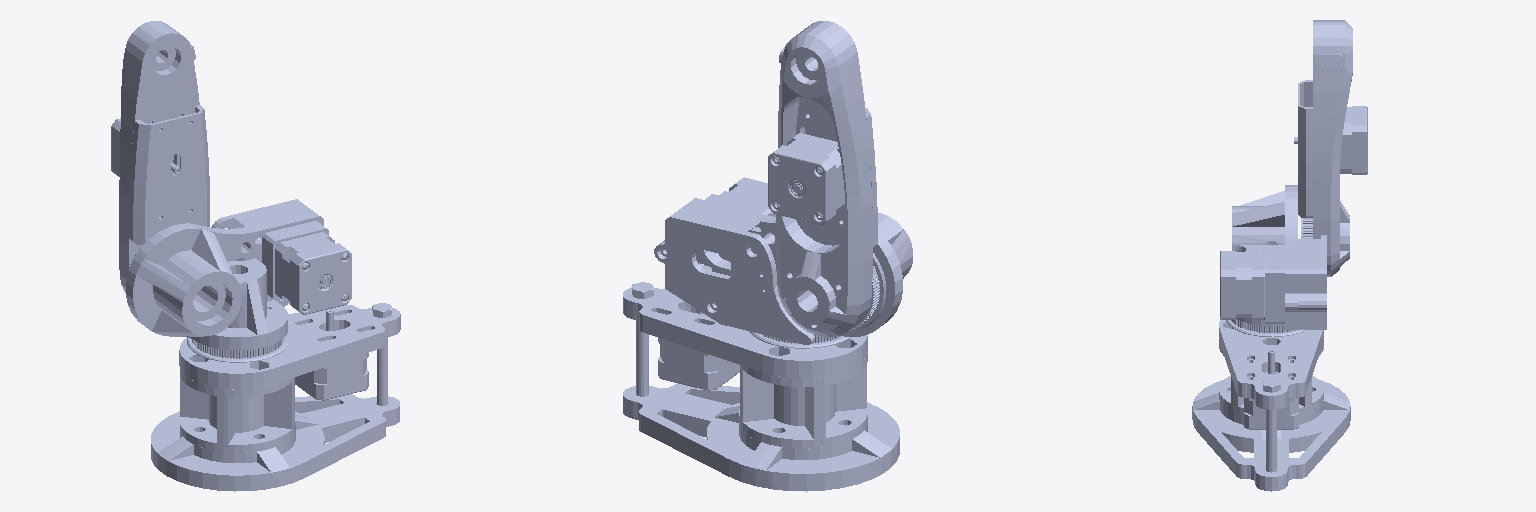
URDF robot description (robot_arm):
<?xml version="1.0" encoding="utf-8"?>
<!-- This URDF was automatically created by SolidWorks to URDF Exporter! Originally created by [author] ([email redacted]) 
     Commit Version: 1.6.0-4-g7f85cfe  Build Version: 1.6.7995.38578
     For more information, please see http://wiki.ros.org/sw_urdf_exporter -->
<robot
  name="robot_arm">
  <link
    name="base_link">
    <inertial>
      <origin
        xyz="0.0255730958520303 0.013884602527498 -3.57728338697066E-08"
        rpy="0 0 0" />
      <mass
        value="0.436656281721509" />
      <inertia
        ixx="0.000275493469666201"
        ixy="4.20948592024223E-06"
        ixz="2.42104668670834E-10"
        iyy="0.000797952591500023"
        iyz="-3.55525800160377E-11"
        izz="0.000596315822730298" />
    </inertial>
    <visual>
      <origin
        xyz="0 0 0"
        rpy="0 0 0" />
      <geometry>
        <mesh
          filename="package://robot_arm/meshes/base_link.STL" />
      </geometry>
      <material
        name="">
        <color
          rgba="0.792156862745098 0.819607843137255 0.933333333333333 1" />
      </material>
    </visual>
    <collision>
      <origin
        xyz="0 0 0"
        rpy="0 0 0" />
      <geometry>
        <mesh
          filename="package://robot_arm/meshes/base_link.STL" />
      </geometry>
    </collision>
  </link>
  <link
    name="link1">
    <inertial>
      <origin
        xyz="0.00637793798209238 0.0488798575567449 -0.00229432415669968"
        rpy="0 0 0" />
      <mass
        value="0.356326079956351" />
      <inertia
        ixx="0.000175906216394001"
        ixy="2.23781390290641E-05"
        ixz="5.37299514044409E-05"
        iyy="0.000323052024269637"
        iyz="4.53381729517857E-06"
        izz="0.000370588074351588" />
    </inertial>
    <visual>
      <origin
        xyz="0 0 0"
        rpy="0 0 0" />
      <geometry>
        <mesh
          filename="package://robot_arm/meshes/link1.STL" />
      </geometry>
      <material
        name="">
        <color
          rgba="0.792156862745098 0.819607843137255 0.933333333333333 1" />
      </material>
    </visual>
    <collision>
      <origin
        xyz="0 0 0"
        rpy="0 0 0" />
      <geometry>
        <mesh
          filename="package://robot_arm/meshes/link1.STL" />
      </geometry>
    </collision>
  </link>
  <joint
    name="J1"
    type="continuous">
    <origin
      xyz="0 0 0.054376"
      rpy="1.5708 0 -0.17957" />
    <parent
      link="base_link" />
    <child
      link="link1" />
    <axis
      xyz="0 1 0" />
  </joint>
  <link
    name="link2">
    <inertial>
      <origin
        xyz="-0.00194449812486946 0.0658586717870418 -0.0347270366025151"
        rpy="0 0 0" />
      <mass
        value="0.267463974995638" />
      <inertia
        ixx="0.000716839779430708"
        ixy="-3.95964668231812E-05"
        ixz="1.1486069372782E-05"
        iyy="8.27386087802379E-05"
        iyz="1.69450131847882E-05"
        izz="0.000774379823273382" />
    </inertial>
    <visual>
      <origin
        xyz="0 0 0"
        rpy="0 0 0" />
      <geometry>
        <mesh
          filename="package://robot_arm/meshes/link2.STL" />
      </geometry>
      <material
        name="">
        <color
          rgba="0.792156862745098 0.819607843137255 0.933333333333333 1" />
      </material>
    </visual>
    <collision>
      <origin
        xyz="0 0 0"
        rpy="0 0 0" />
      <geometry>
        <mesh
          filename="package://robot_arm/meshes/link2.STL" />
      </geometry>
    </collision>
  </link>
  <joint
    name="J2"
    type="continuous">
    <origin
      xyz="-0.038353 0.0583 -0.0013209"
      rpy="0.011484 -0.0003636 0.063304" />
    <parent
      link="link1" />
    <child
      link="link2" />
    <axis
      xyz="0.1786 0 0.98392" />
  </joint>
  <link
    name="link3">
    <inertial>
      <origin
        xyz="0.0130563478238648 0.00105076957686734 0.00197573396878195"
        rpy="0 0 0" />
      <mass
        value="0.222311320377135" />
      <inertia
        ixx="9.15294723513774E-05"
        ixy="-2.93868065975677E-06"
        ixz="5.36688667027628E-06"
        iyy="0.00012003016865184"
        iyz="-5.9276568583241E-06"
        izz="0.000140784486113707" />
    </inertial>
    <visual>
      <origin
        xyz="0 0 0"
        rpy="0 0 0" />
      <geometry>
        <mesh
          filename="package://robot_arm/meshes/link3.STL" />
      </geometry>
      <material
        name="">
        <color
          rgba="0.792156862745098 0.819607843137255 0.933333333333333 1" />
      </material>
    </visual>
    <collision>
      <origin
        xyz="0 0 0"
        rpy="0 0 0" />
      <geometry>
        <mesh
          filename="package://robot_arm/meshes/link3.STL" />
      </geometry>
    </collision>
  </link>
  <joint
    name="J3"
    type="continuous">
    <origin
      xyz="0.010122 0.15967 -0.0018373"
      rpy="-0.034158 -0.0032425 -0.18927" />
    <parent
      link="link2" />
    <child
      link="link3" />
    <axis
      xyz="0.1786 0 0.98392" />
  </joint>
  <link
    name="link4">
    <inertial>
      <origin
        xyz="0.00802792604442938 0.00104408266558736 -0.00105833882848586"
        rpy="0 0 0" />
      <mass
        value="0.1696257012172" />
      <inertia
        ixx="5.17820793133401E-05"
        ixy="-6.63726230268937E-06"
        ixz="8.9003241534384E-06"
        iyy="0.000101876628194636"
        iyz="1.17168186802824E-06"
        izz="9.3966015439911E-05" />
    </inertial>
    <visual>
      <origin
        xyz="0 0 0"
        rpy="0 0 0" />
      <geometry>
        <mesh
          filename="package://robot_arm/meshes/link4.STL" />
      </geometry>
      <material
        name="">
        <color
          rgba="0.792156862745098 0.819607843137255 0.933333333333333 1" />
      </material>
    </visual>
    <collision>
      <origin
        xyz="0 0 0"
        rpy="0 0 0" />
      <geometry>
        <mesh
          filename="package://robot_arm/meshes/link4.STL" />
      </geometry>
    </collision>
  </link>
  <joint
    name="J4"
    type="continuous">
    <origin
      xyz="-3.6363E-05 0.014877 0.010525"
      rpy="0.019243 0.0025524 -0.0034694" />
    <parent
      link="link3" />
    <child
      link="link4" />
    <axis
      xyz="0.97586 0.12771 -0.17714" />
  </joint>
  <link
    name="link5">
    <inertial>
      <origin
        xyz="0.00207136926136326 0.00132324610517892 -0.000396911101236221"
        rpy="0 0 0" />
      <mass
        value="0.0179895273320859" />
      <inertia
        ixx="2.01072029683863E-06"
        ixy="-3.67044819195393E-07"
        ixz="2.26773043949782E-08"
        iyy="2.36455919952921E-06"
        iyz="6.03479232687029E-08"
        izz="2.09143498833267E-06" />
    </inertial>
    <visual>
      <origin
        xyz="0 0 0"
        rpy="0 0 0" />
      <geometry>
        <mesh
          filename="package://robot_arm/meshes/link5.STL" />
      </geometry>
      <material
        name="">
        <color
          rgba="0.792156862745098 0.819607843137255 0.933333333333333 1" />
      </material>
    </visual>
    <collision>
      <origin
        xyz="0 0 0"
        rpy="0 0 0" />
      <geometry>
        <mesh
          filename="package://robot_arm/meshes/link5.STL" />
      </geometry>
    </collision>
  </link>
  <joint
    name="J5"
    type="continuous">
    <origin
      xyz="-0.13556 -0.017639 0.024605"
      rpy="-3.0186 0.32455 0.71945" />
    <parent
      link="link4" />
    <child
      link="link5" />
    <axis
      xyz="0.17609 0.019561 0.98418" />
  </joint>
</robot>

--- What the picture shows (computed from the rendered views, not written in the file) ---
Views: 3 orthographic renders of the robot side by side, from view 1: azimuth 30°, elevation 25°; view 2: azimuth 150°, elevation 25°; view 3: azimuth 270°, elevation 25°.
Robot: robot_arm — 6 links, 5 joints (5 continuous); root link base_link; default pose: every joint at zero.
Links seen in each view (by area): view 1: base_link, link1, link2; view 2: base_link, link2, link1; view 3: base_link, link1, link2.
Boxes of the visible links, <box> form: base_link: <box>151,303,400,491</box>; link1: <box>126,199,351,362</box>; link2: <box>111,21,209,292</box>; base_link: <box>623,282,899,491</box>; link2: <box>768,21,885,336</box>; link1: <box>654,177,912,348</box>; base_link: <box>1192,320,1350,491</box>; link1: <box>1220,185,1326,336</box>; link2: <box>1294,20,1367,276</box>.
Size in the robot's own frame: 0.2049 by 0.1328 by 0.3151 metres.
3 mesh visuals loaded from 6 distinct referenced files (3 binary STL); not drawn: 3 (reference not matched to a file when rendering).